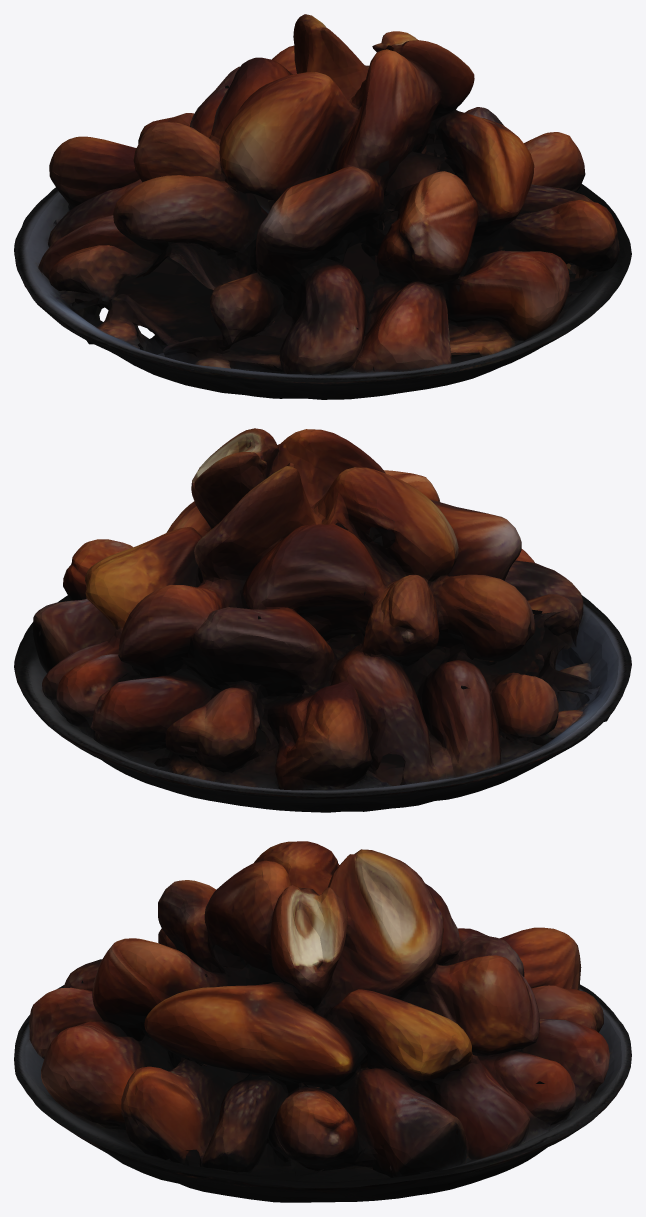
3 views of the same model, one above another, from view 1: azimuth 30°, elevation 25°; view 2: azimuth 150°, elevation 25°; view 3: azimuth 270°, elevation 25° (orthographic).
Visible parts, largest first — view 1: world; view 2: world; view 3: world.
Part boxes in pixels (left/top/right/bottom): world: left=14, top=14, right=631, bottom=399; world: left=14, top=428, right=631, bottom=812; world: left=14, top=841, right=631, bottom=1202.
Size of the model in its own units: 1 by 0.4524 by 0.9998.
1 material, 1 textured.
